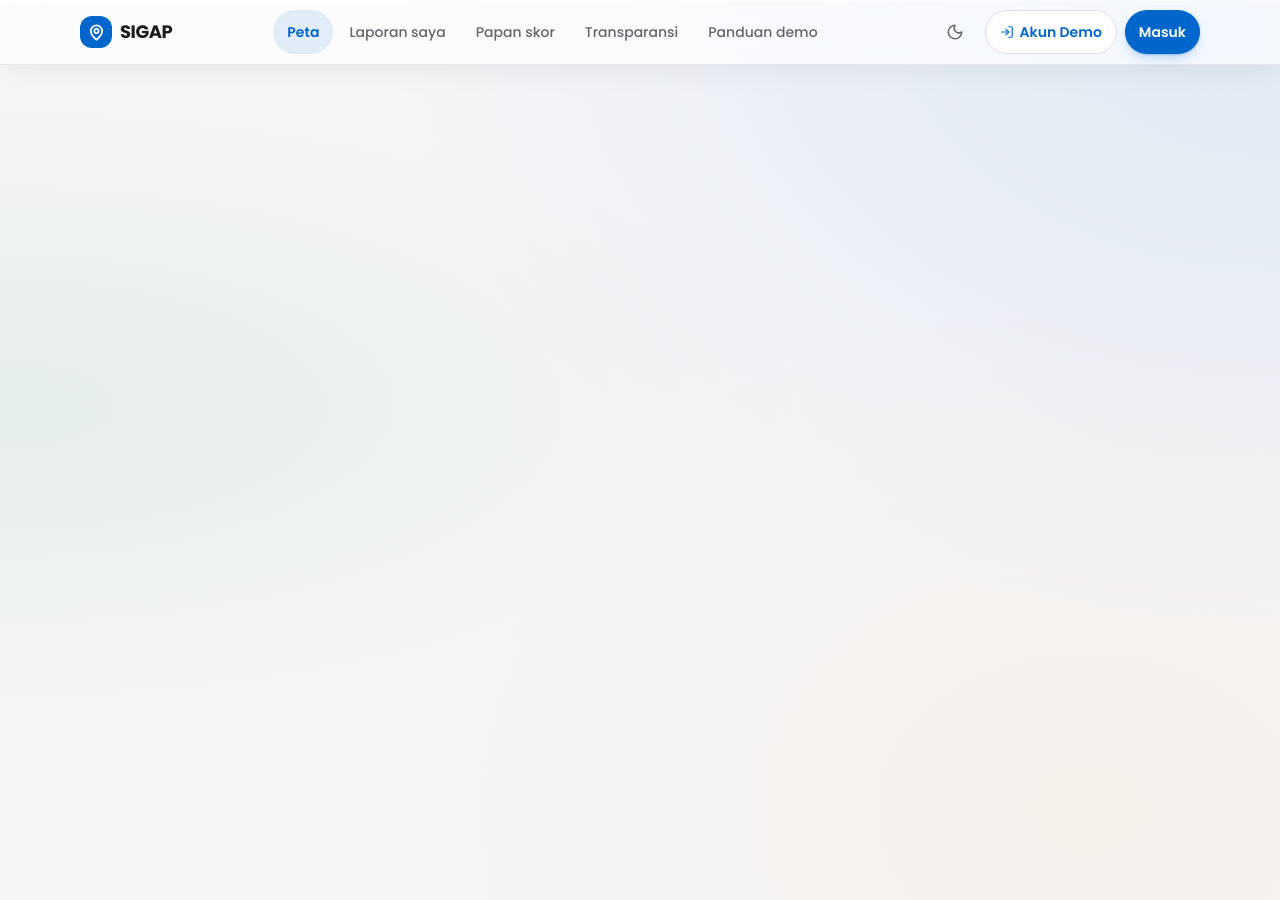
Test case: SiteHeader › label toggle tema berupa aksi dan berubah setelah diklik
The image size is (1280, 900).
What coordinates should you click on to do the following:
click the button named "Aktifkan mode gelap"
I would click on:
 (954, 32)
Its box is 932,10 -> 976,54.
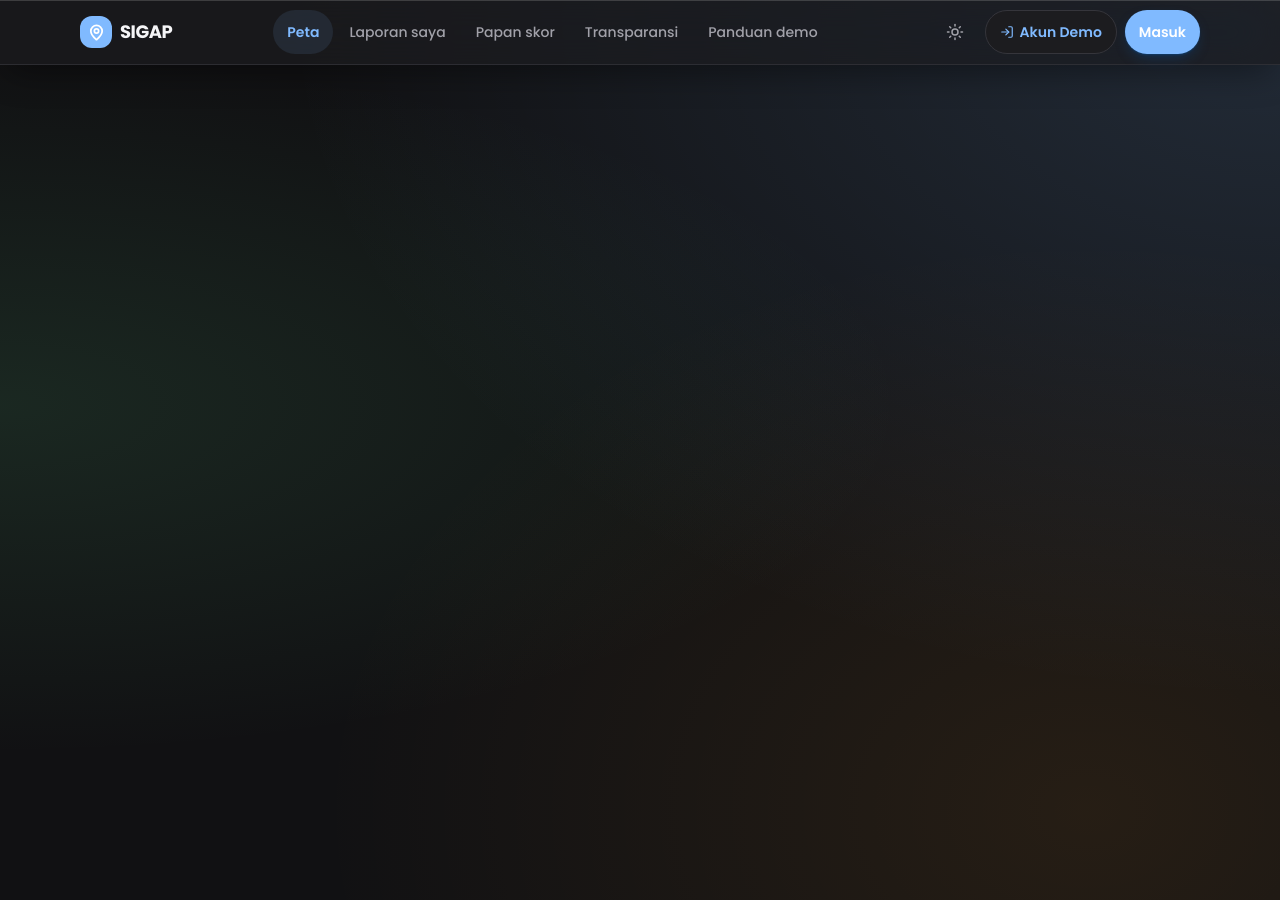
Expected: the button named "Aktifkan mode terang" is shown, 932,10 -> 976,54
